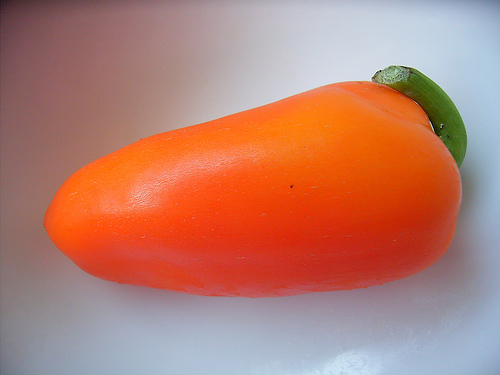capsicum: (44, 64, 469, 292)
